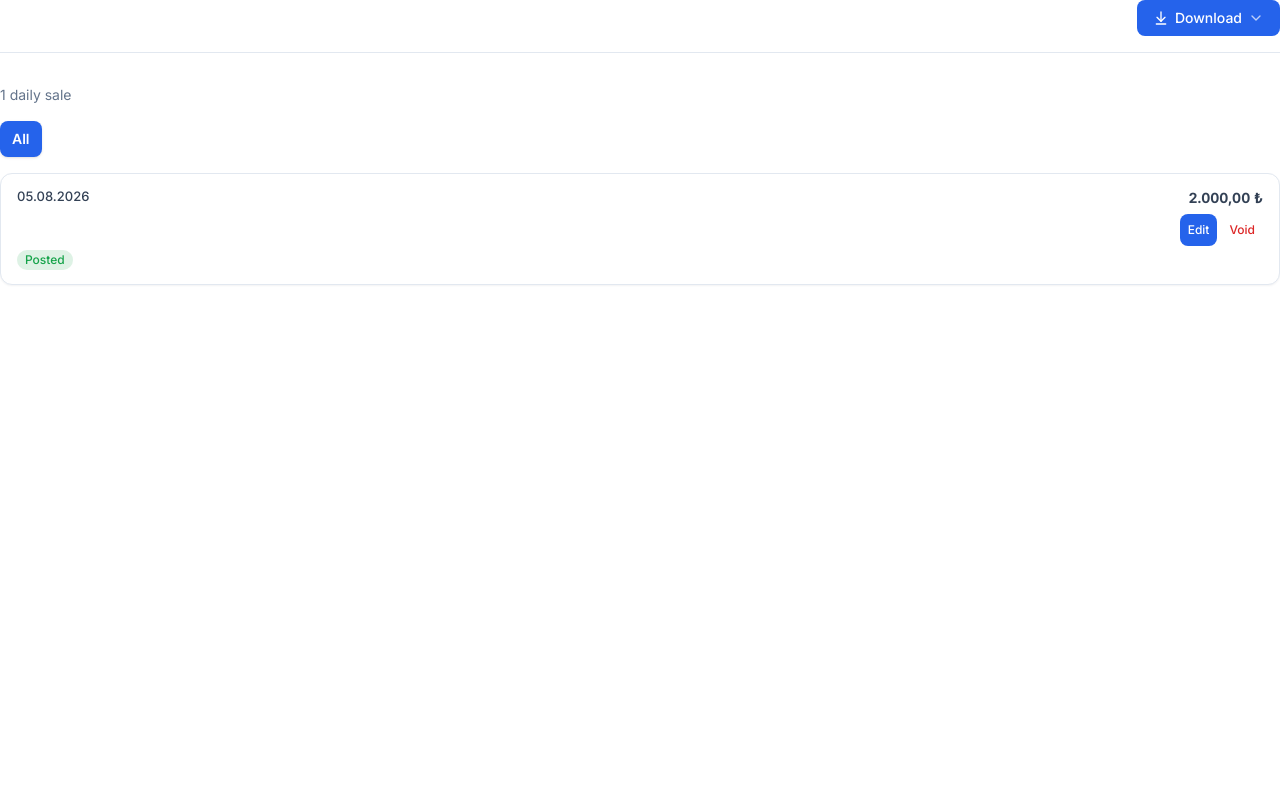
Test: mobile daily sales posted row actions › Void shows date · type · amount and does not POST until confirm then void form
Click the button "Void".
click(1242, 230)  # box [1221, 214, 1263, 246]
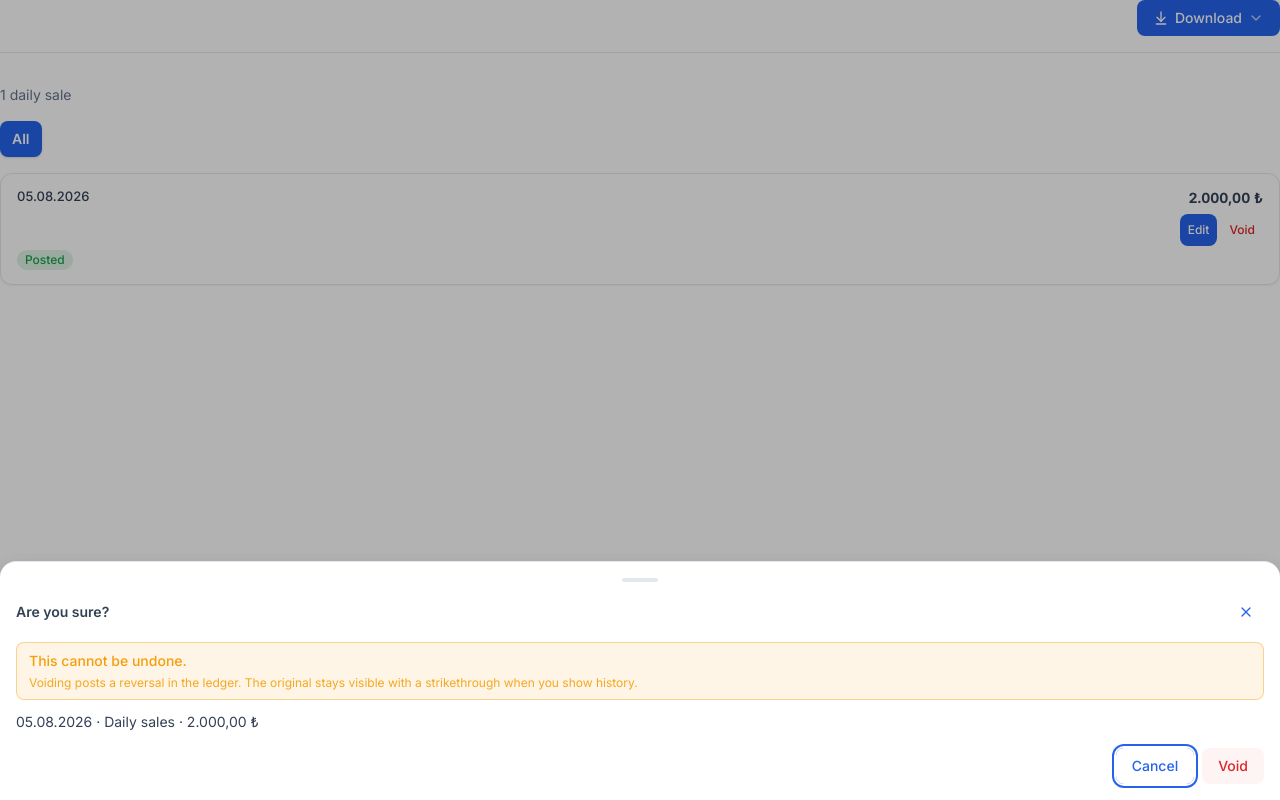
Expected: the dialog "Are you sure?" is shown, [0, 561, 1279, 799]
Expected: the text "05.08.2026 · Daily sales · 2.000,00 ₺" is shown, [16, 713, 259, 730]
Click the button "Void".
click(1233, 766)  # box [1202, 748, 1264, 784]
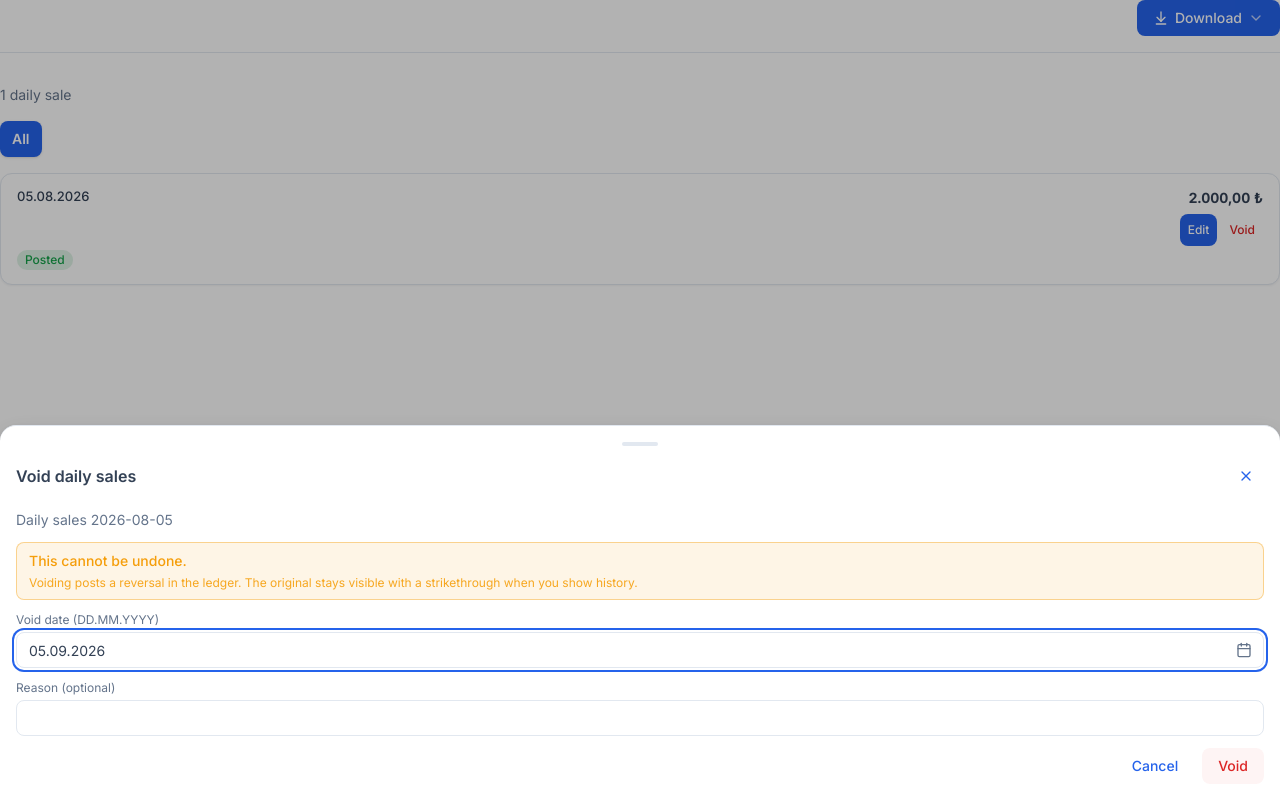
Expected: the dialog "Void daily sales" is shown, [0, 425, 1279, 799]
